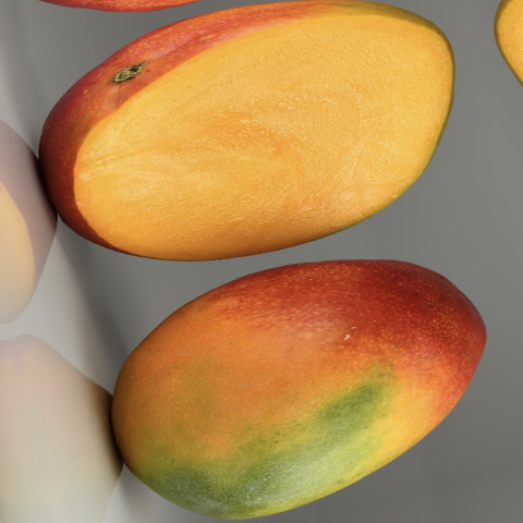mango: (0, 0, 512, 320), (41, 212, 523, 523)
